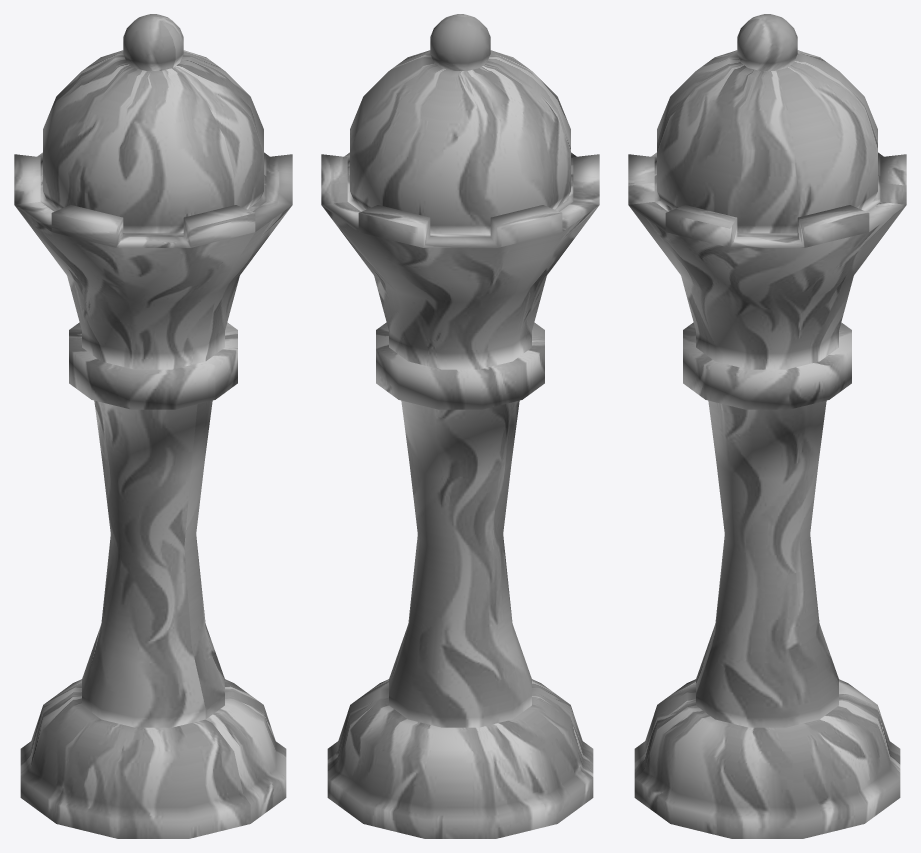
File: Queen.glb
3 views of the same model, side by side, from view 1: azimuth 30°, elevation 25°; view 2: azimuth 150°, elevation 25°; view 3: azimuth 270°, elevation 25° (orthographic).
Parts seen in each view (by area): view 1: Queen; view 2: Queen; view 3: Queen.
Boxes of the visible parts, x1=… form: Queen: x1=14, y1=14, x2=292, y2=838; Queen: x1=321, y1=14, x2=599, y2=838; Queen: x1=628, y1=14, x2=906, y2=838.
Bounding box in the file's own units: 0.1318 × 0.4 × 0.1318.
1 material, 1 textured.
